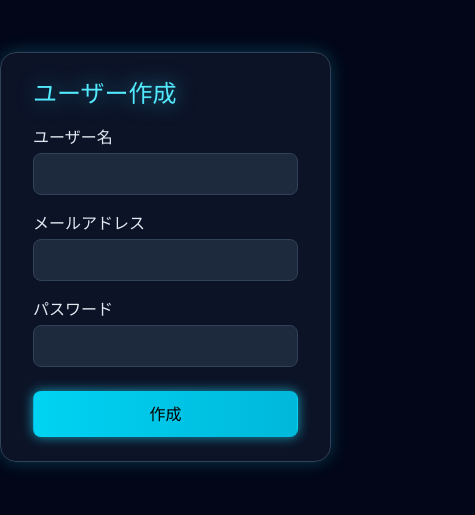
Scenario: CreateUserCard › パスワードが半角英数字以外を含む場合は送信せずエラーを表示する
The width and height of the screenshot is (475, 515).
Step 1. Type "Alice" into the field labelled "ユーザー名" → (166, 174), box [33,153,298,195]
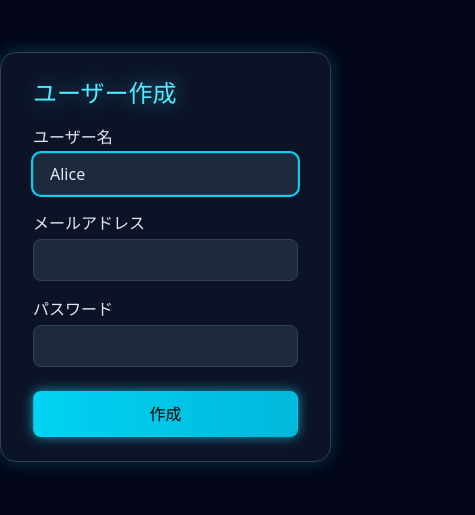
Step 2. Type "alice@example.com" into the field labelled "メールアドレス" → (166, 260), box [33,239,298,281]
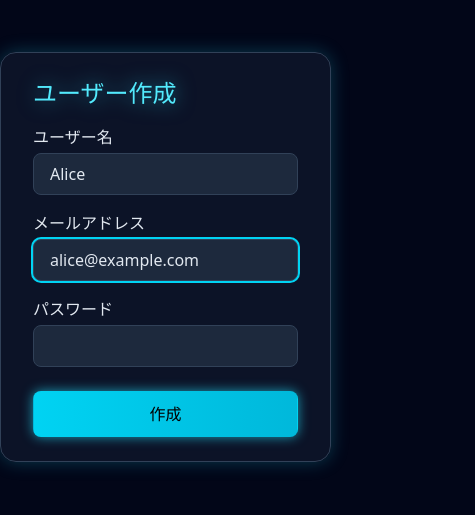
Step 3. Type "Password!" into the password field labelled "パスワード" → (166, 346), box [33,325,298,367]
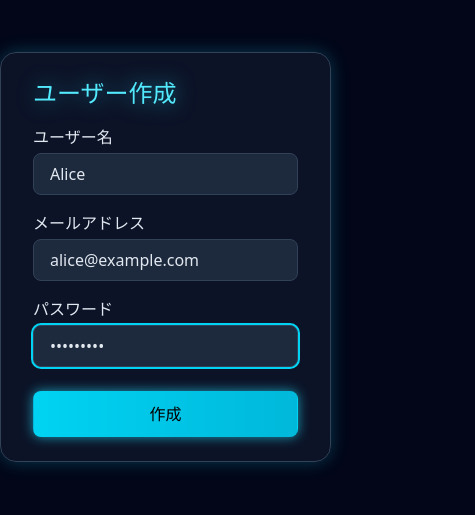
Step 4. Click the button "作成" → (166, 414), box [33,391,298,437]
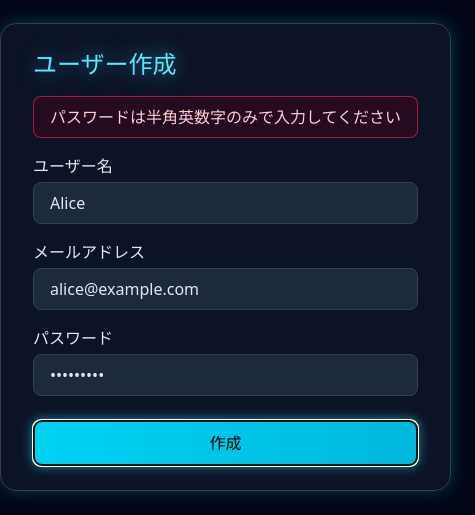
Now the text "パスワードは半角英数字のみで入力してください" is shown, box [33,96,418,138]
